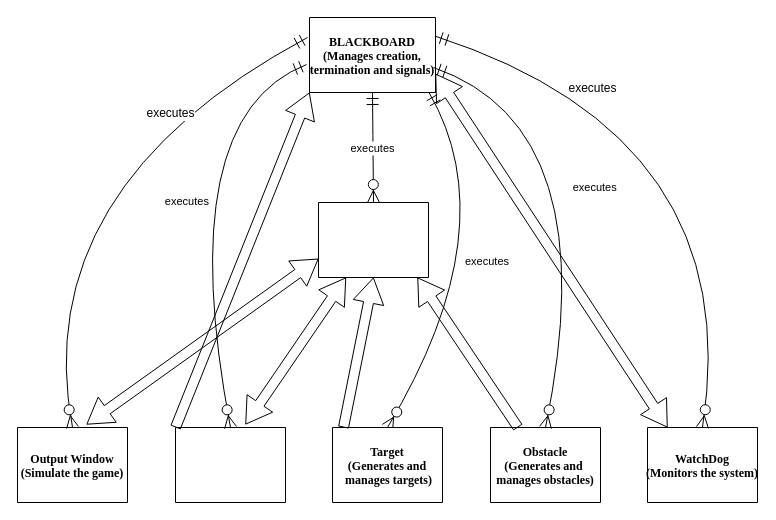
This 776x520 diagram has some shape labels left out. The centre of each missing label's shape, as x and y in pixels:
Input Window (Interactive UI for user Input): (x=230, y=464)
Server (Manages the logic and communication between tasks): (x=373, y=240)
